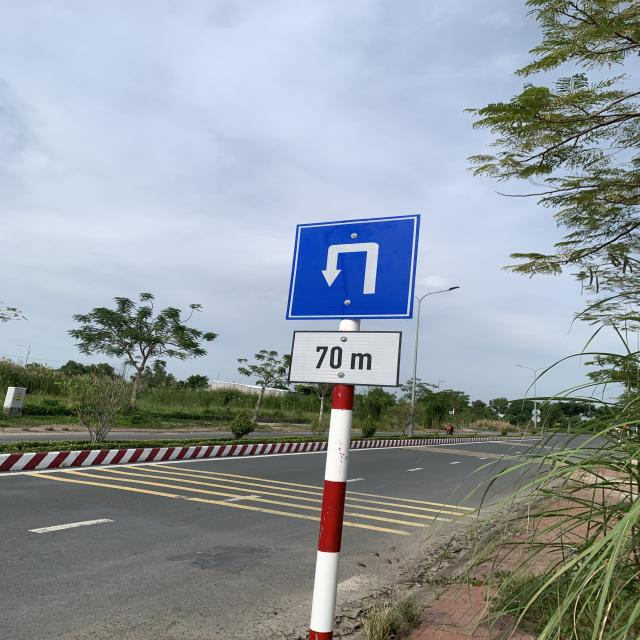Den_Giao_Thong: (288, 214, 419, 320)
